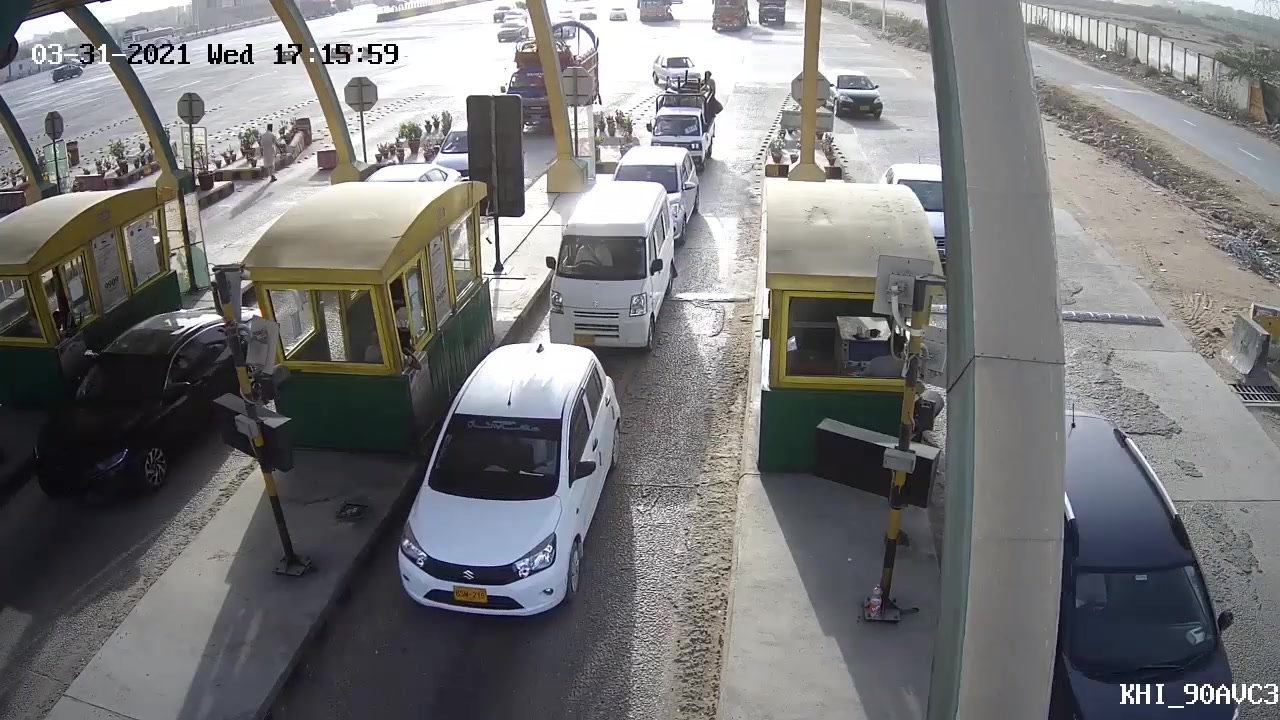F1: (391, 333, 626, 633), (544, 181, 681, 358)
